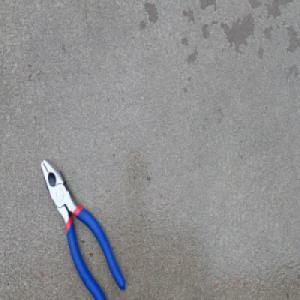Pliers: (39, 157, 126, 300)
